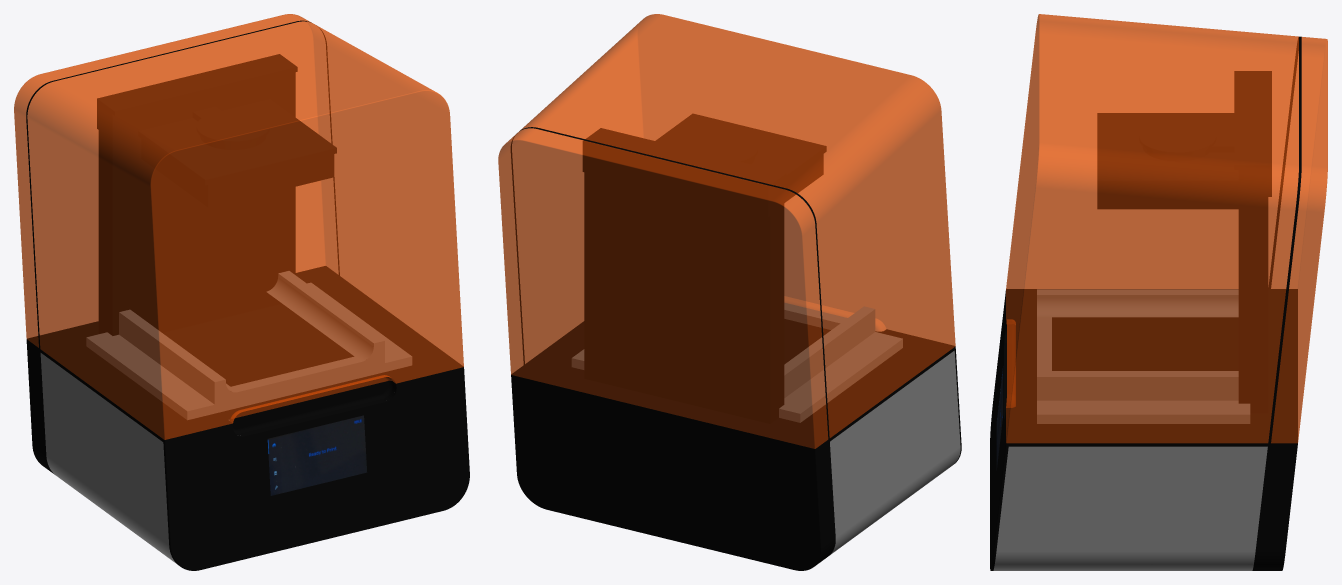
Rendered from form3d.glb.
3 views of the same model, side by side, from view 1: azimuth 30°, elevation 25°; view 2: azimuth 150°, elevation 25°; view 3: azimuth 270°, elevation 25° (orthographic). The views are drawn at different scales.
Visible parts, largest first — view 1: Object_8_Orange Reflective_2_0, Object_7_Black Reflective_3_0, Object_3_Black Reflective_0, Object_6_Orange Reflective_0, Object_15_Grey Reflective_8_0, Object_1_Grey Reflective_0, Object_9_Blue Reflective_0, Object_4_Grey Reflective_3_0, Object_10_Black Reflective_4_0, Object_26_Black Reflective_5_0, Object_25_Grey Reflective_18_0, Object_5_Black Reflective_2_0; view 2: Object_8_Orange Reflective_2_0, Object_6_Orange Reflective_0, Object_3_Black Reflective_0, Object_7_Black Reflective_3_0, Object_15_Grey Reflective_8_0, Object_1_Grey Reflective_0, Object_26_Black Reflective_5_0, Object_25_Grey Reflective_18_0, Object_5_Black Reflective_2_0; view 3: Object_8_Orange Reflective_2_0, Object_21_Grey Reflective_14_0, Object_7_Black Reflective_3_0, Object_3_Black Reflective_0, Object_1_Grey Reflective_0, Object_6_Orange Reflective_0, Object_26_Black Reflective_5_0, Object_24_Grey Reflective_17_0, Object_5_Black Reflective_2_0, Object_10_Black Reflective_4_0, Object_9_Blue Reflective_0.
Boxes of the visible parts, x1,y1,x2,y2 form: Object_8_Orange Reflective_2_0: (27, 21, 463, 439); Object_7_Black Reflective_3_0: (26, 283, 469, 570); Object_3_Black Reflective_0: (97, 54, 336, 335); Object_6_Orange Reflective_0: (14, 14, 338, 347); Object_15_Grey Reflective_8_0: (40, 353, 168, 545); Object_1_Grey Reflective_0: (86, 271, 411, 419); Object_9_Blue Reflective_0: (267, 415, 367, 495); Object_4_Grey Reflective_3_0: (187, 341, 412, 419); Object_10_Black Reflective_4_0: (230, 380, 396, 436); Object_26_Black Reflective_5_0: (27, 266, 348, 356); Object_25_Grey Reflective_18_0: (46, 456, 169, 558); Object_5_Black Reflective_2_0: (26, 20, 339, 348); Object_8_Orange Reflective_2_0: (512, 14, 955, 437); Object_6_Orange Reflective_0: (498, 128, 828, 448); Object_3_Black Reflective_0: (582, 113, 826, 423); Object_7_Black Reflective_3_0: (511, 319, 961, 570); Object_15_Grey Reflective_8_0: (830, 350, 960, 537); Object_1_Grey Reflective_0: (572, 303, 902, 422); Object_26_Black Reflective_5_0: (511, 357, 838, 448); Object_25_Grey Reflective_18_0: (830, 452, 953, 554); Object_5_Black Reflective_2_0: (510, 127, 829, 439); Object_8_Orange Reflective_2_0: (1006, 14, 1298, 443); Object_21_Grey Reflective_14_0: (996, 446, 1267, 551); Object_7_Black Reflective_3_0: (990, 289, 1297, 570); Object_3_Black Reflective_0: (1097, 71, 1271, 413); Object_1_Grey Reflective_0: (1037, 289, 1250, 423); Object_6_Orange Reflective_0: (1271, 37, 1327, 443); Object_26_Black Reflective_5_0: (1247, 289, 1297, 443); Object_24_Grey Reflective_17_0: (1010, 551, 1255, 570); Object_5_Black Reflective_2_0: (1268, 36, 1301, 443); Object_10_Black Reflective_4_0: (1004, 324, 1015, 418); Object_9_Blue Reflective_0: (996, 366, 1003, 470).
Bounding box in the file's own units: 76.63 × 100 × 70.91.
26 materials, 1 textured.
